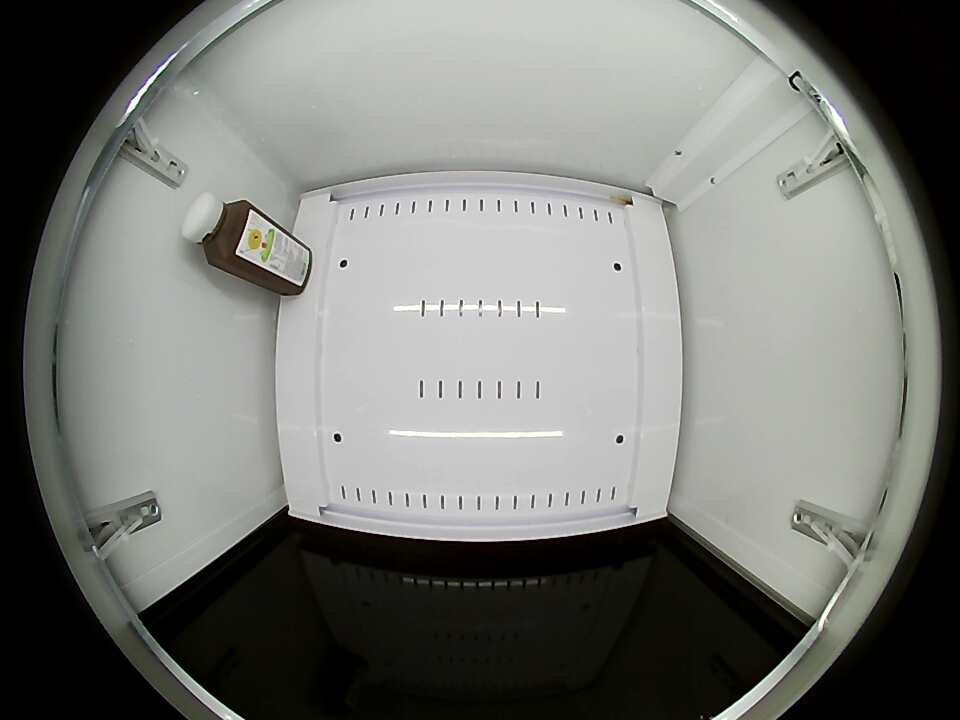youyanggudong: (182, 192, 253, 268)
